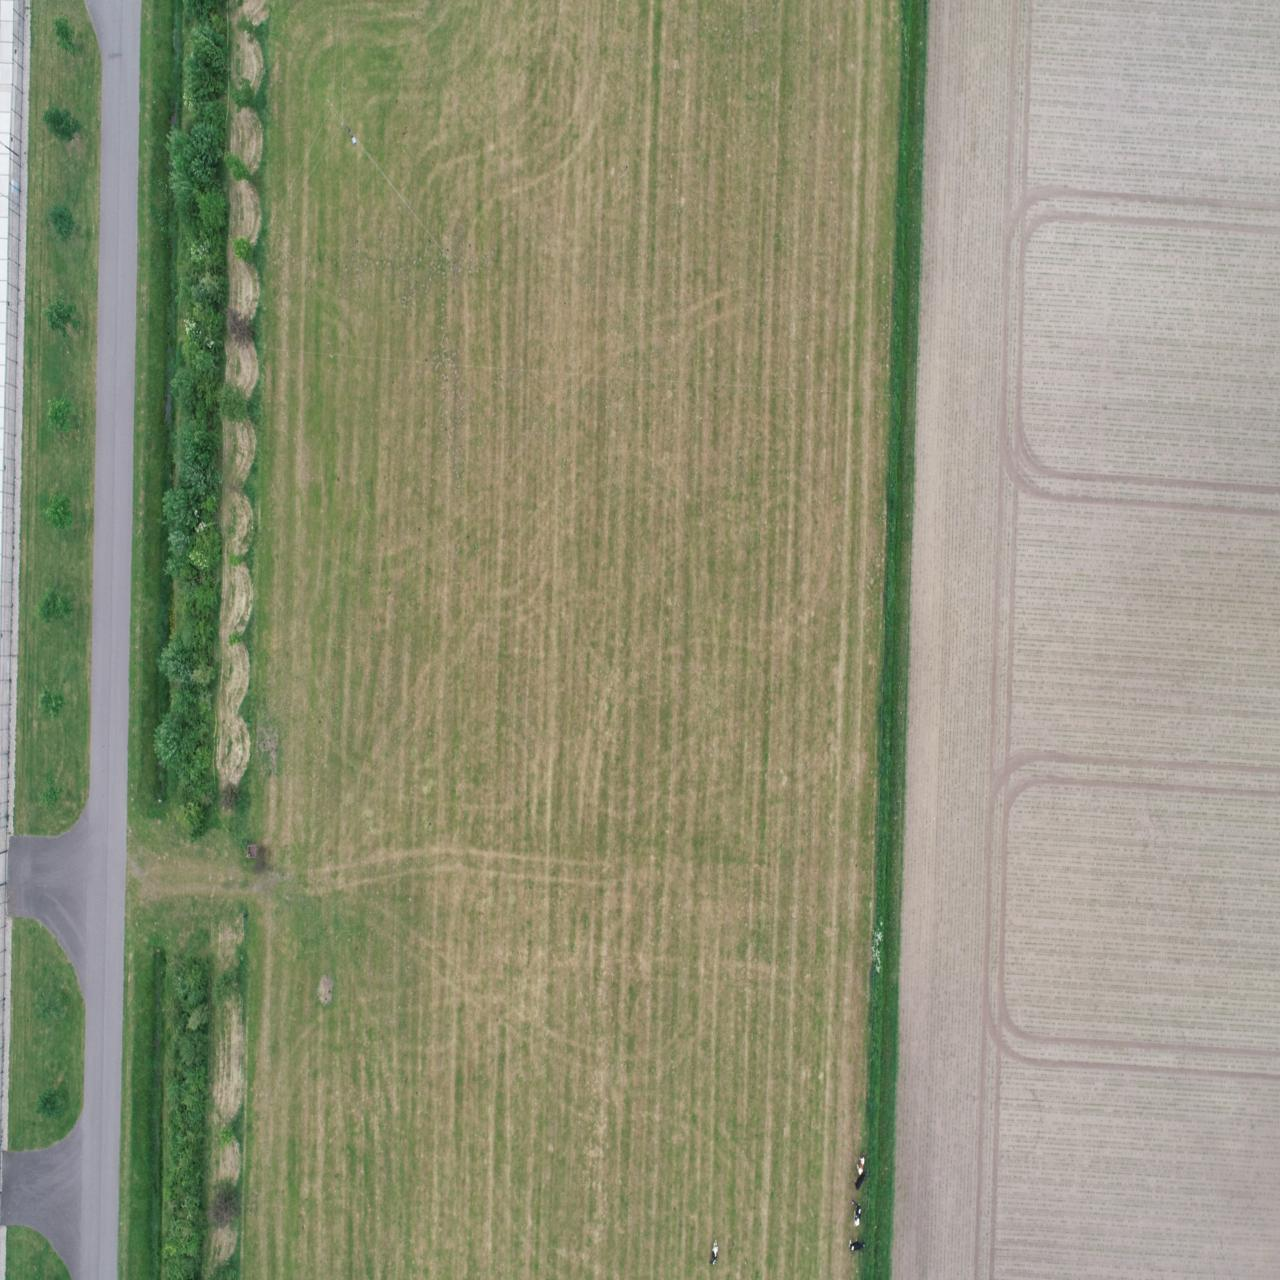cow: (846, 1234, 866, 1253), (708, 1237, 720, 1266), (856, 1149, 867, 1176), (855, 1170, 869, 1190), (855, 1200, 862, 1227)
